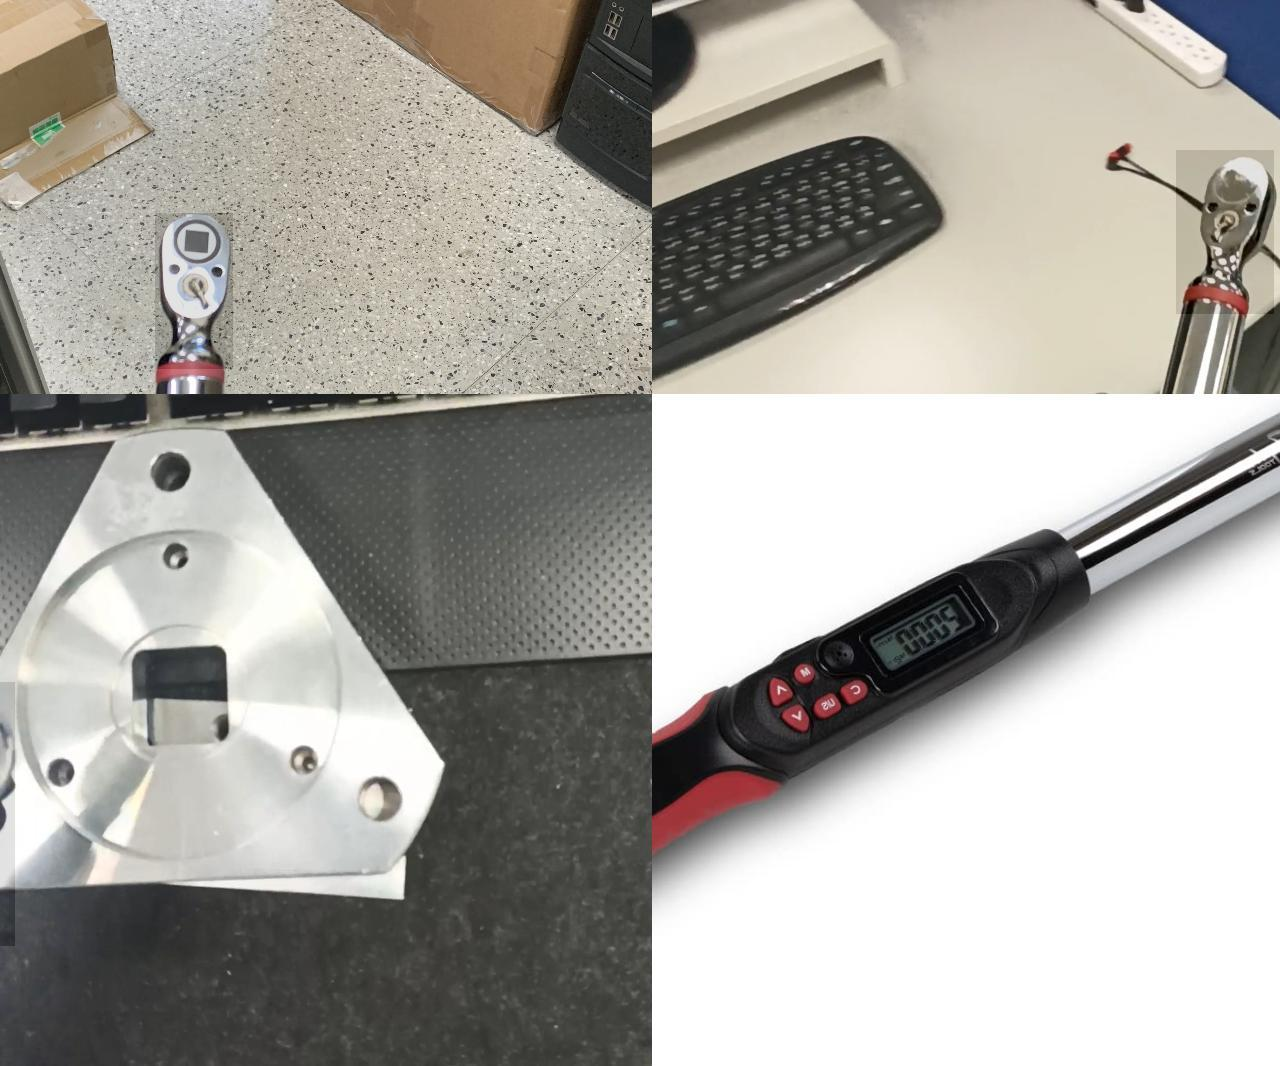Tool: (1176, 150, 1274, 314), (155, 213, 233, 369)
